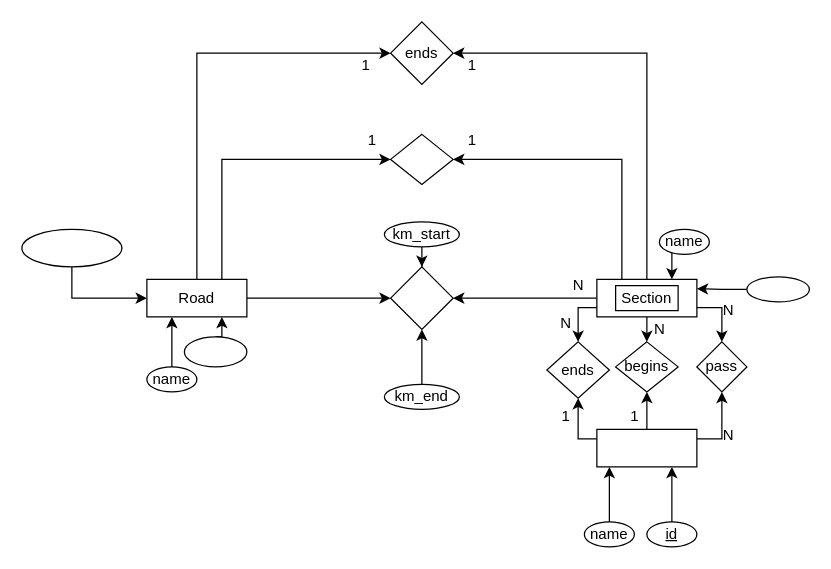
Image size: 831x569. Some labels were removed from this diagram. The shapes that lost their labels are listed below. From the top down, each one's centre as x and y in pixels, then its label:
the point at 421,158: begin
the point at 71,247: type
the point at 421,297: divided
the point at 777,289: number
the point at 215,351: code
the point at 646,447: Comunnity
